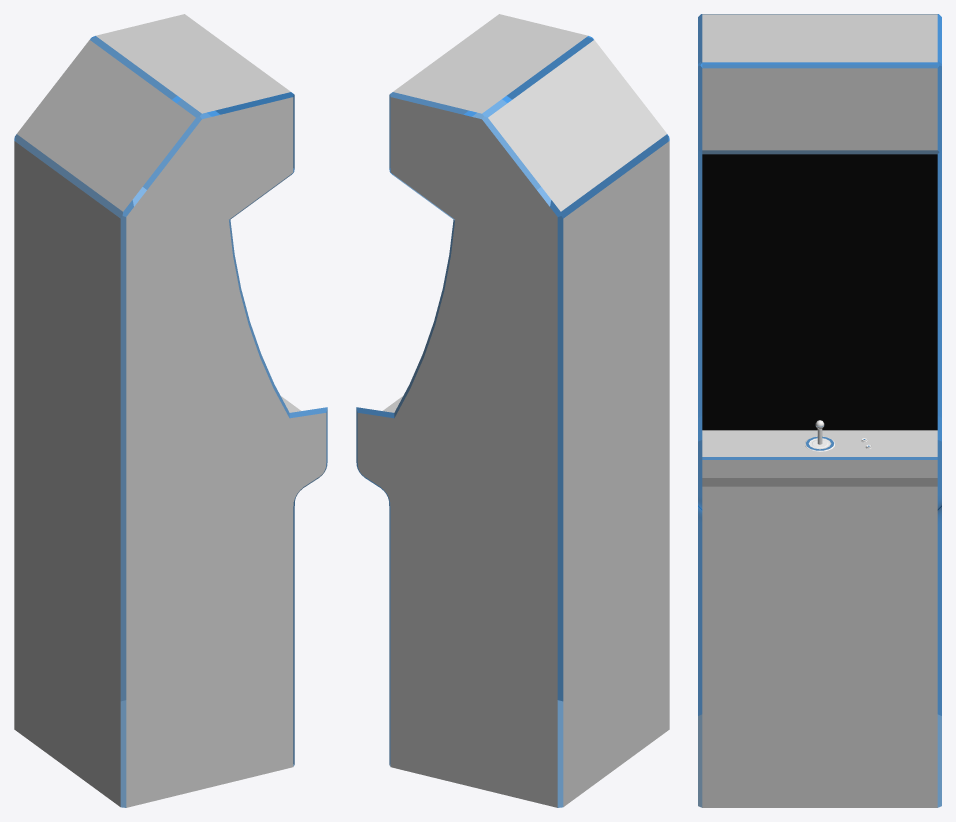
File: ArcadeCabinet.fbx
The picture shows the model from 3 angles, left to right: view 1: azimuth 30°, elevation 25°; view 2: azimuth 150°, elevation 25°; view 3: azimuth 270°, elevation 25°; orthographic projection. The views are drawn at different scales.
Visible parts, largest first — view 1: ArcadeCabinet; view 2: ArcadeCabinet; view 3: ArcadeCabinet.
Boxes of the visible parts, left/top/right/bottom form: ArcadeCabinet: left=14, top=14, right=327, bottom=807; ArcadeCabinet: left=356, top=14, right=669, bottom=807; ArcadeCabinet: left=698, top=14, right=941, bottom=807.
Size of the model in its own units: 5951 by 18500 by 5500.
